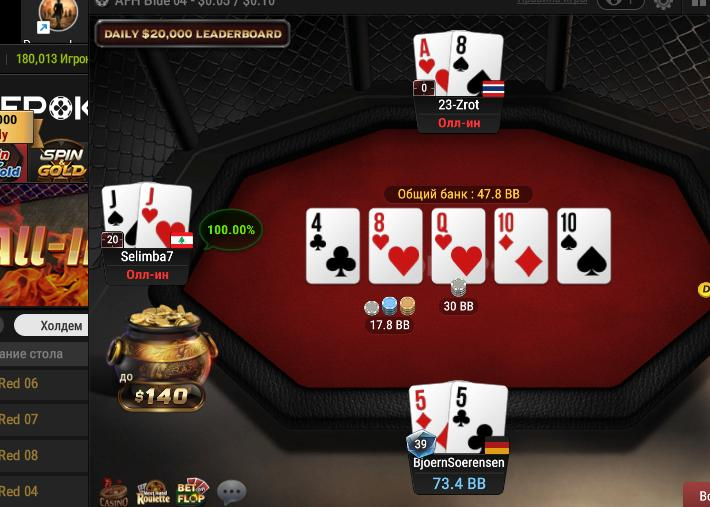10d: (496, 209, 548, 283)
10s: (559, 209, 611, 284)
4c: (306, 209, 359, 281)
5c: (449, 380, 508, 454)
5d: (410, 383, 449, 454)
8h: (370, 208, 420, 282)
8s: (449, 29, 503, 98)
Ah: (412, 33, 450, 97)
Jh: (138, 182, 191, 247)
Js: (101, 185, 139, 246)
Qh: (432, 210, 483, 281)
